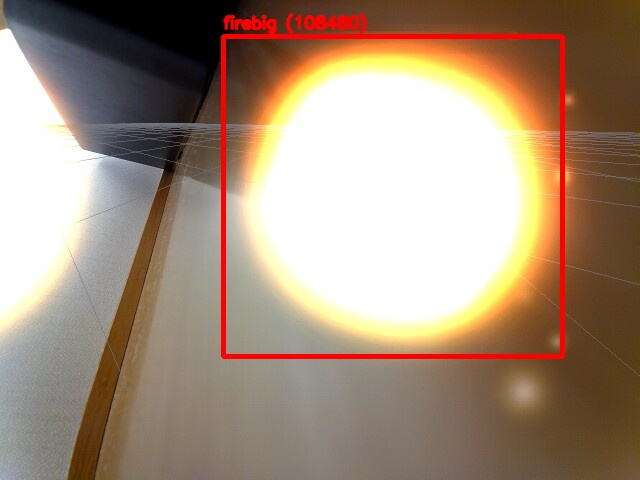firebig: (223, 36, 562, 356)
